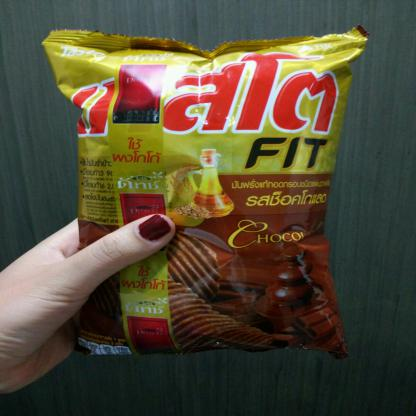potatochip: (42, 27, 373, 360)
